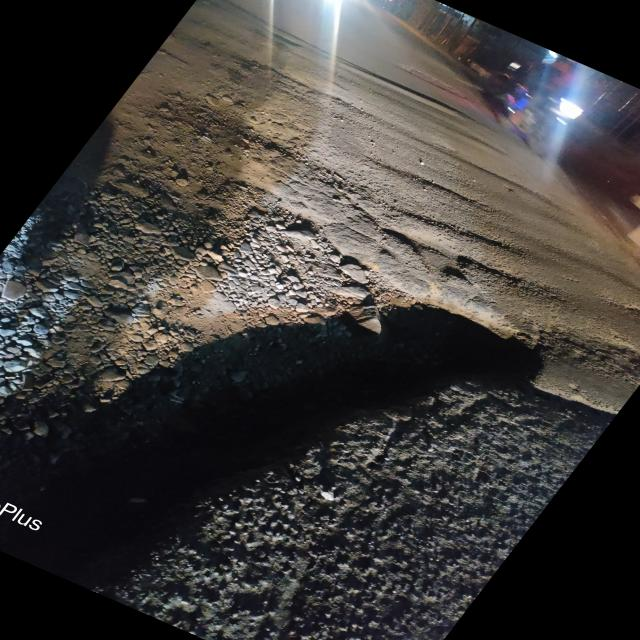potholes: (8, 298, 551, 587)
